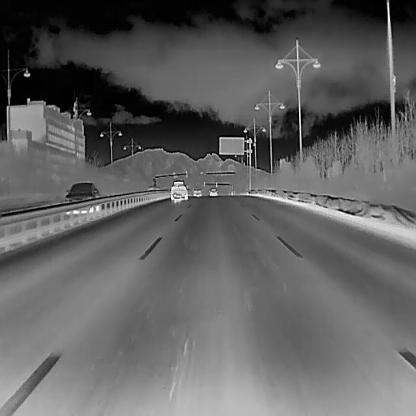car: (64, 180, 100, 206), (168, 180, 188, 201), (192, 186, 201, 197), (208, 186, 217, 196)
